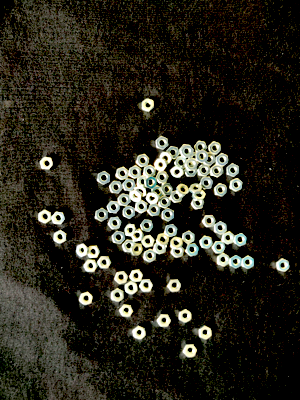nut: (276, 258, 291, 273), (183, 344, 198, 358), (111, 288, 125, 303), (139, 279, 154, 293), (214, 183, 228, 198), (208, 141, 222, 156), (199, 326, 213, 340), (133, 326, 147, 340), (120, 304, 134, 318), (80, 292, 94, 306), (130, 269, 144, 283), (115, 271, 129, 285), (52, 212, 66, 226), (186, 243, 200, 257), (234, 233, 248, 247), (170, 237, 184, 251), (131, 229, 145, 243), (140, 219, 154, 233), (95, 208, 109, 222), (154, 158, 168, 172), (171, 165, 185, 179), (216, 153, 230, 167), (157, 315, 172, 328), (76, 243, 89, 258), (54, 230, 67, 245), (108, 217, 123, 230), (200, 177, 215, 190), (227, 163, 240, 178), (156, 136, 169, 151), (179, 309, 192, 323), (168, 280, 182, 293), (98, 256, 112, 269), (84, 260, 98, 273), (39, 210, 52, 224), (40, 157, 54, 170), (242, 256, 255, 270), (212, 241, 226, 254), (200, 236, 214, 249), (222, 232, 235, 246), (215, 221, 228, 235), (203, 215, 217, 228), (182, 231, 195, 245), (144, 249, 157, 263), (156, 234, 170, 247), (164, 224, 178, 237), (142, 235, 155, 249), (122, 240, 136, 253), (112, 232, 126, 245), (162, 208, 175, 222), (147, 204, 161, 217), (123, 206, 136, 220), (107, 201, 121, 214), (159, 196, 172, 210), (230, 178, 243, 192), (110, 181, 124, 194), (116, 167, 129, 181), (137, 154, 150, 168), (160, 152, 174, 165), (210, 165, 224, 178), (167, 146, 180, 160), (196, 150, 209, 164), (181, 145, 195, 158), (142, 99, 155, 113), (153, 243, 168, 255), (192, 190, 207, 202), (125, 282, 138, 295), (88, 246, 101, 259), (230, 256, 243, 269), (217, 254, 230, 267), (131, 244, 144, 257), (125, 224, 138, 237), (118, 194, 131, 207), (130, 190, 143, 203), (160, 183, 173, 196), (98, 172, 111, 185), (123, 179, 136, 192), (129, 166, 142, 179), (203, 153, 216, 166), (171, 247, 185, 259), (136, 200, 148, 214), (146, 192, 160, 204), (156, 172, 170, 184), (185, 159, 199, 171), (191, 199, 206, 210), (171, 191, 184, 203), (177, 184, 189, 197), (135, 186, 148, 198), (145, 176, 157, 189), (137, 176, 149, 189), (143, 165, 156, 177), (185, 165, 198, 177), (198, 165, 211, 177), (175, 157, 188, 169), (189, 153, 202, 165), (195, 141, 208, 153), (151, 186, 163, 198), (189, 184, 203, 194)
